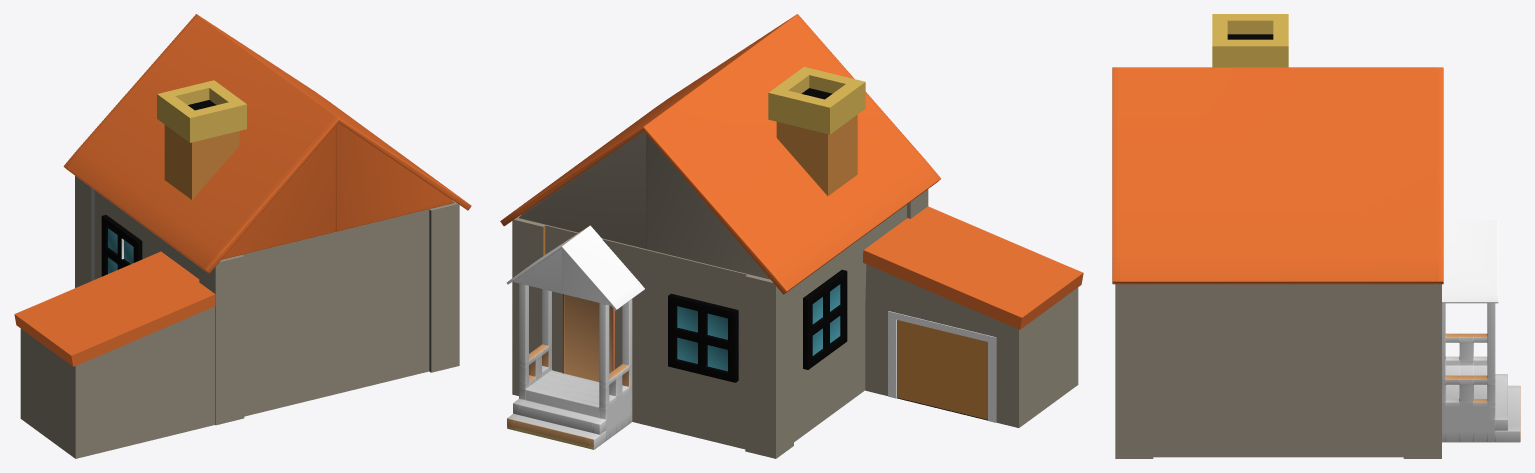
File: FBX_CasasYmas.fbx
3 views of the same model, side by side, from view 1: azimuth 30°, elevation 25°; view 2: azimuth 150°, elevation 25°; view 3: azimuth 270°, elevation 25° (orthographic). The views are drawn at different scales.
Parts seen in each view (by area): view 1: MSH_Casa01; view 2: MSH_Casa01, MSH_Casa02; view 3: MSH_Casa01.
Part boxes in pixels (bbox=[...]): MSH_Casa01: bbox=[14, 14, 471, 458]; MSH_Casa01: bbox=[500, 14, 1083, 458]; MSH_Casa02: bbox=[525, 226, 987, 419]; MSH_Casa01: bbox=[1112, 14, 1520, 458].
Size of the model in its own units: 840 by 559 by 642.
